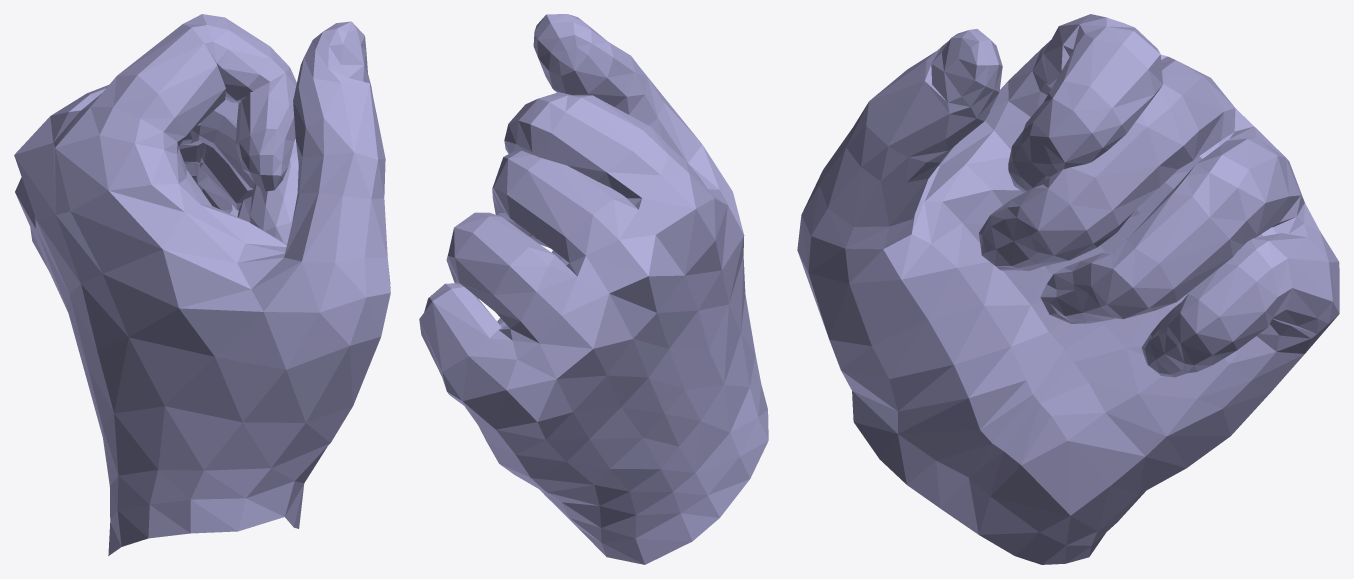
The model's file is frame_0053_source_000053_hand.glb.
The picture shows the model from 3 angles, left to right: view 1: azimuth 30°, elevation 25°; view 2: azimuth 150°, elevation 25°; view 3: azimuth 270°, elevation 25°; orthographic projection. The views are drawn at different scales.
Visible parts, largest first — view 1: world; view 2: world; view 3: world.
Boxes of the visible parts, x1=… form: world: x1=14, y1=14, x2=390, y2=555; world: x1=419, y1=14, x2=768, y2=564; world: x1=797, y1=14, x2=1339, y2=564.
Size of the model in its own units: 0.059 by 0.1199 by 0.1018.
